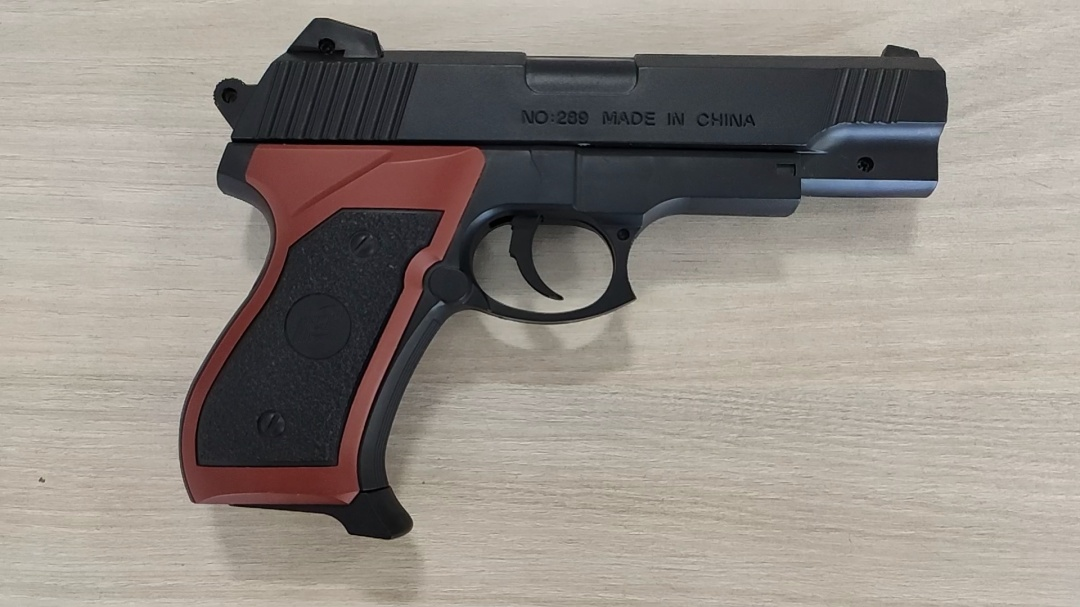gun: (277, 119, 562, 411)
